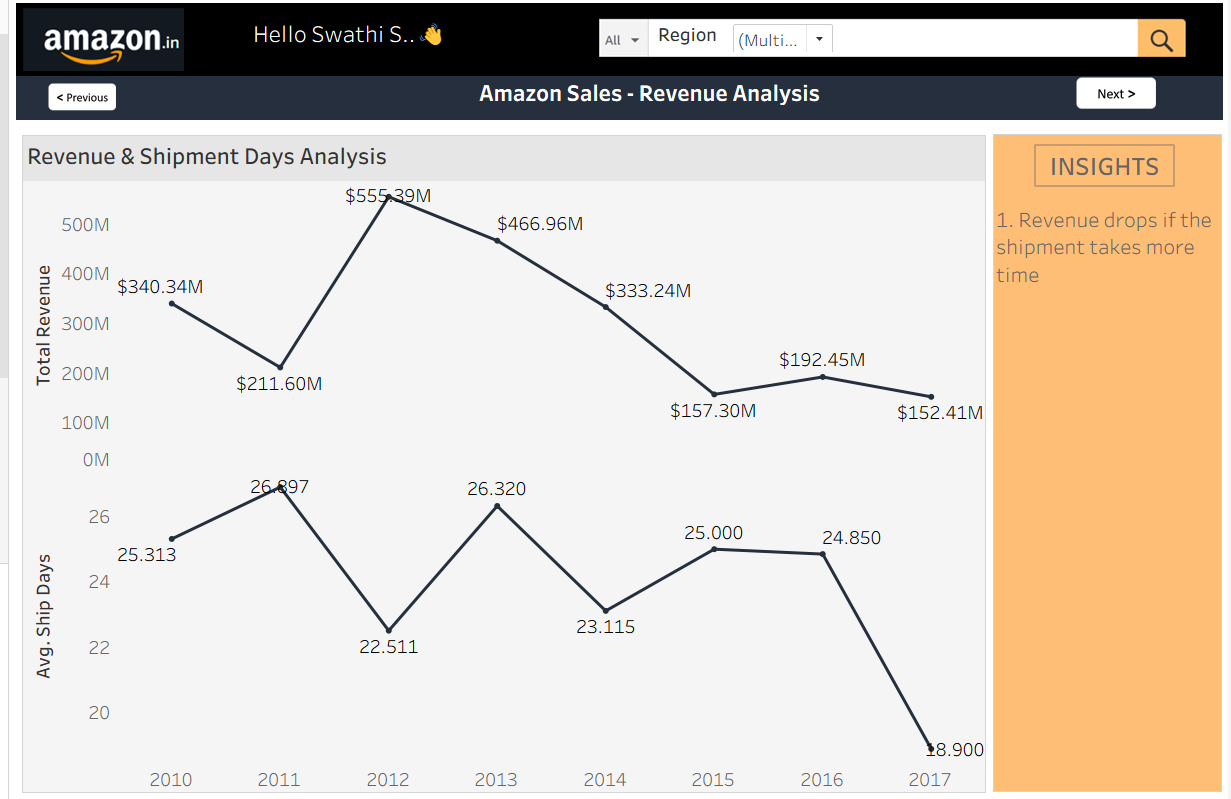

What the dashboard file says about the page in this screenshot:
{"tool":"tableau","page":{"name":"Revenue Analysis","canvas":[1000,1000],"units":"permille","ordinal":2},"visuals":[{"type":"blank","box":[5.7,11.2,989.3,92.9]},{"type":"image","param":"C:/Users/krizzy/Downloads/Picture3.png","box":[11.5,17.4,133.6,78.1]},{"type":"image","param":"C:/Users/krizzy/Downloads/Picture5.png","box":[483.6,29.7,508.2,48.3]},{"type":"text","box":[196.7,31,163.9,34.7]},{"type":"filter","title":"Revenue and Shipment Days Analysis","param":"[federated.0j6tzmw1khj7zt10p46t90oay7c3].[none:Region:nk]","box":[532,37.2,145.9,34.7]},{"type":"blank","box":[5.7,101.6,989.3,54.5]},{"type":"dashboard-object","box":[860.7,102.9,93.4,43.4]},{"type":"text","box":[382,105.3,350,32.2]},{"type":"dashboard-object","box":[7.4,110.3,104.9,37.2]},{"type":"text","box":[806.6,173.5,187.7,815.4]},{"type":"worksheet","title":"Revenue and Shipment Days Analysis","mark":"Automatic","rows":["Total Revenue","Calculation_1030570465394690"],"cols":["Ship Date"],"box":[10.7,174.7,790.2,815.4]},{"type":"text","box":[841.8,188.3,112.3,48.3]},{"type":"text","box":[805.7,255.3,184.4,116.5]}]}

Visuals, with their boxes on the dashboard's canvas, which has no fixed pixel size, in thousandths of its width and height (x1, y1, x2, y2). These are canvas units, not pixel positions in the 1231x799 screenshot, which may show the page scaled, cropped or inside an application window:
blank: 6/11/995/104
image: 12/17/145/96
image: 484/30/992/78
text: 197/31/361/66
"Revenue and Shipment Days Analysis" filter: 532/37/678/72
blank: 6/102/995/156
dashboard-object: 861/103/954/146
text: 382/105/732/138
dashboard-object: 7/110/112/148
text: 807/174/994/989
"Revenue and Shipment Days Analysis" worksheet: 11/175/801/990
text: 842/188/954/237
text: 806/255/990/372
